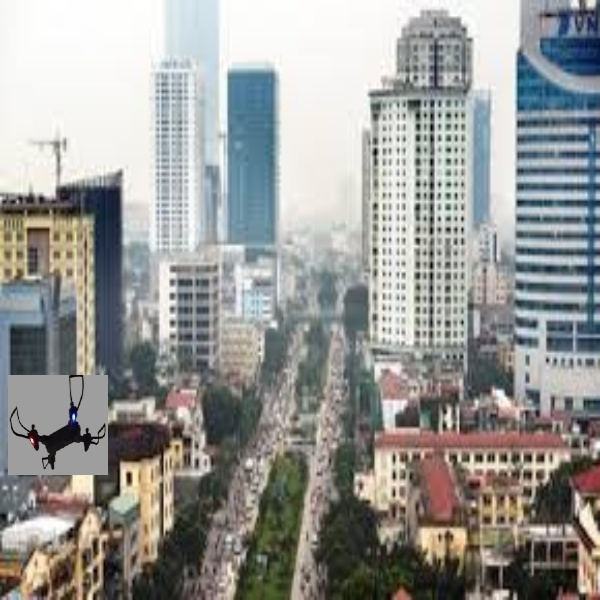drone: (9, 372, 107, 471)
